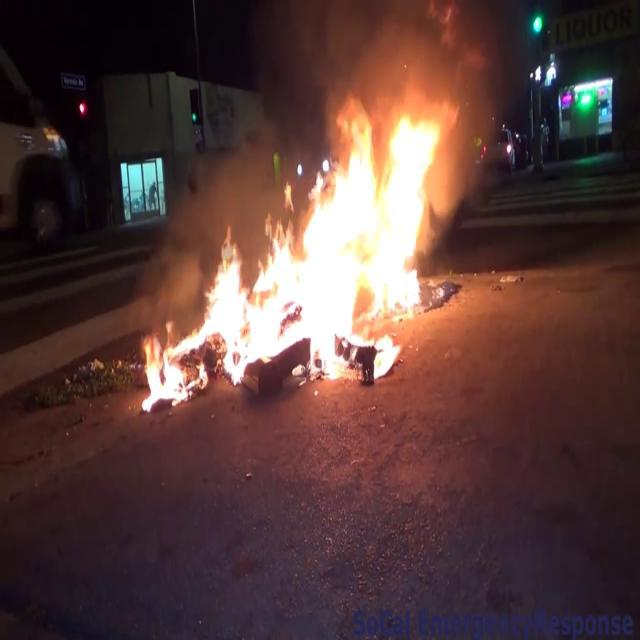Fire: (148, 95, 446, 385), (136, 329, 188, 408)
Smoke: (307, 1, 501, 120)
